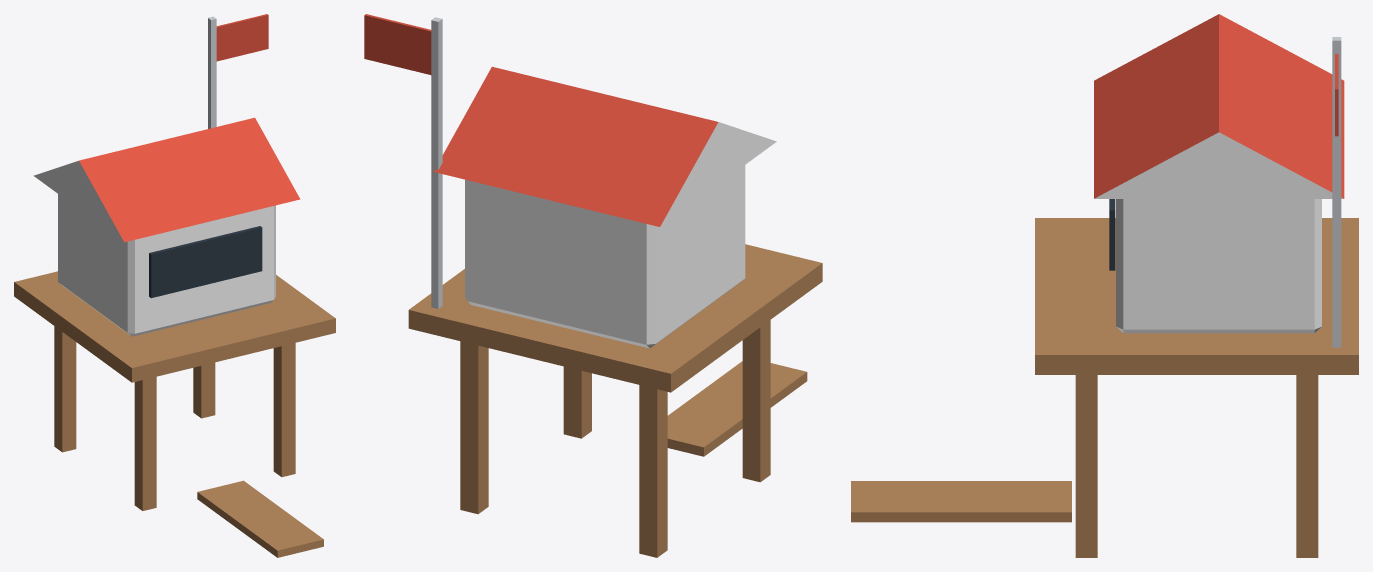
File: d_lifeguard.fbx
3 renders of one model, left to right at view 1: azimuth 30°, elevation 25°; view 2: azimuth 150°, elevation 25°; view 3: azimuth 270°, elevation 25°, orthographic. The views are drawn at different scales.
Visible parts, largest first — view 1: d_lifeguard; view 2: d_lifeguard; view 3: d_lifeguard.
Part boxes in pixels (x1,y1,x2,y2): d_lifeguard: (14,14,335,557); d_lifeguard: (364,14,822,557); d_lifeguard: (851,14,1358,557).
Bounding box in the file's own units: 5.3 × 7.9 × 6.9.
